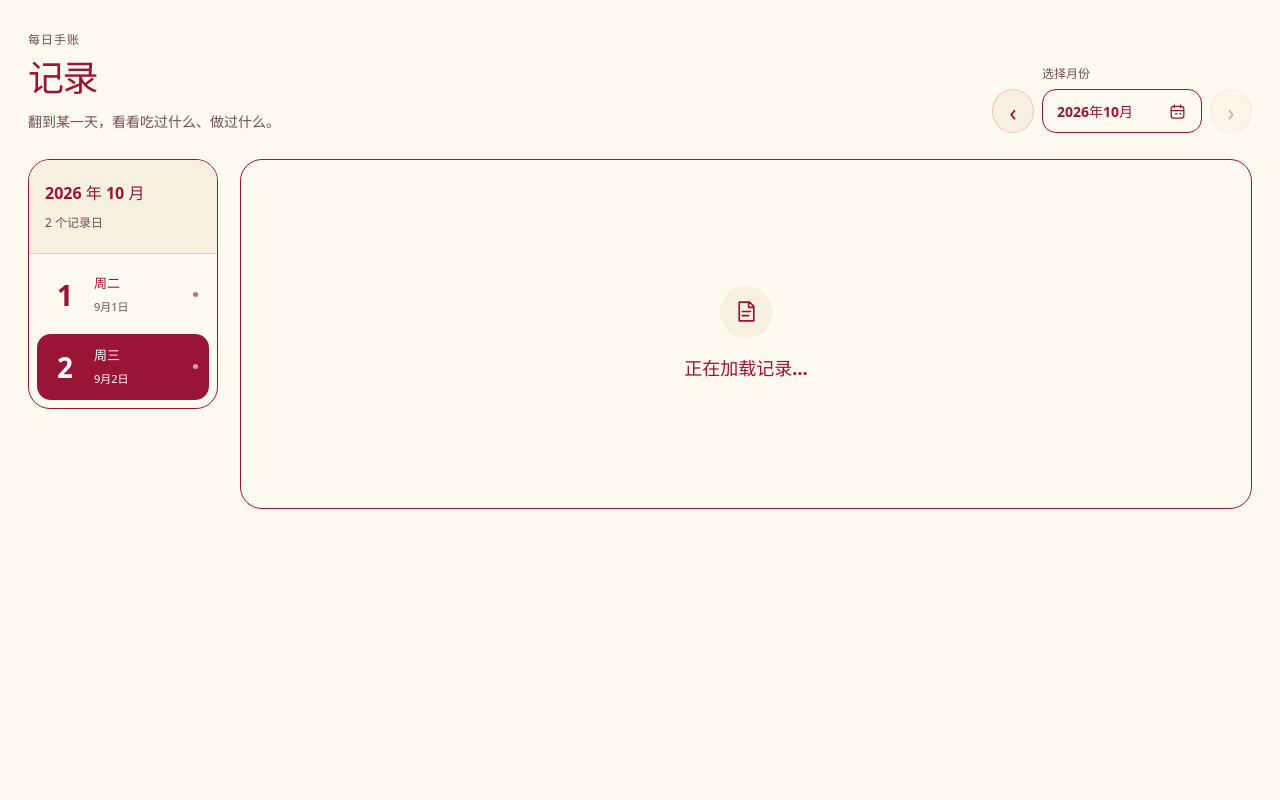
Scenario: history request ordering › ignores the default day of a month after the user selects another day
Click the button "1 周二 9月1日". click: (123, 295)
box: [37, 262, 209, 328]
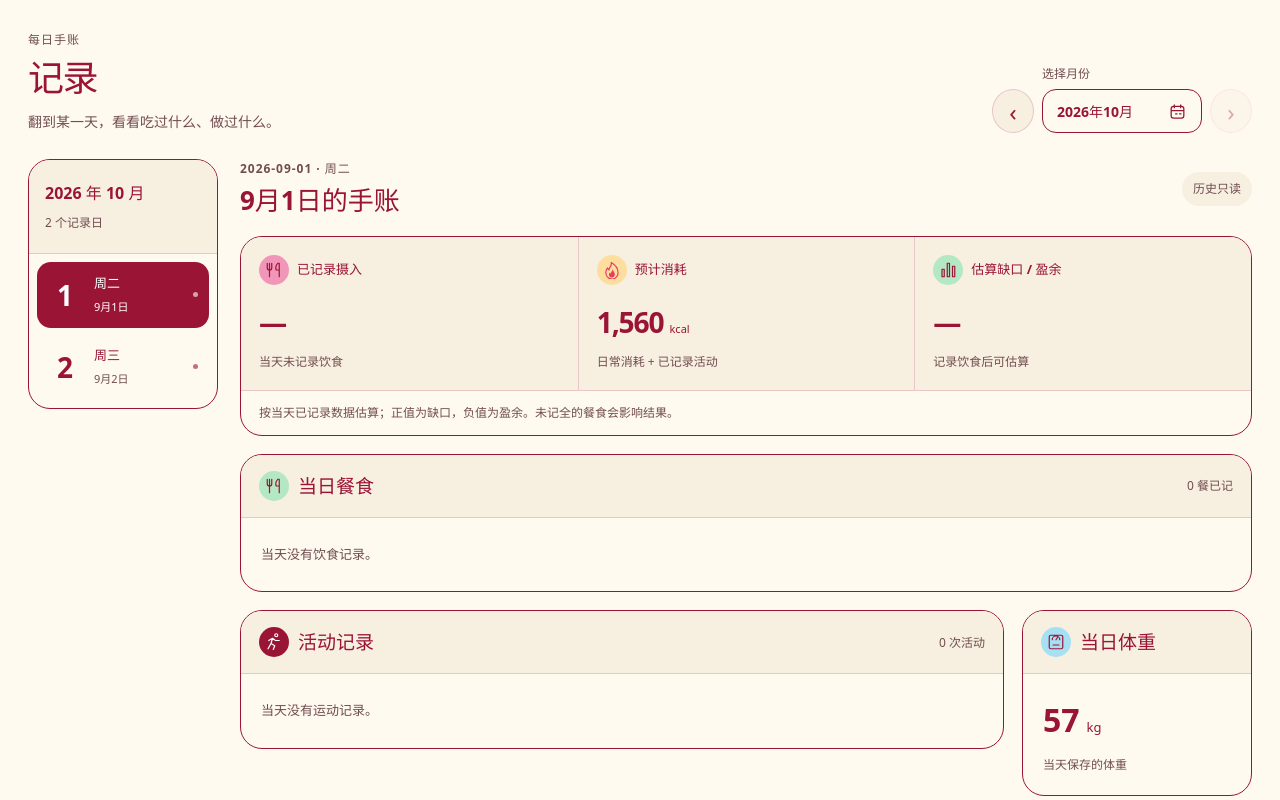
Now the header with class "day-heading" shows "2026-09-01", box [240, 160, 351, 177]
Now the element with class "weight-history" shows "57", box [1043, 698, 1080, 742]
